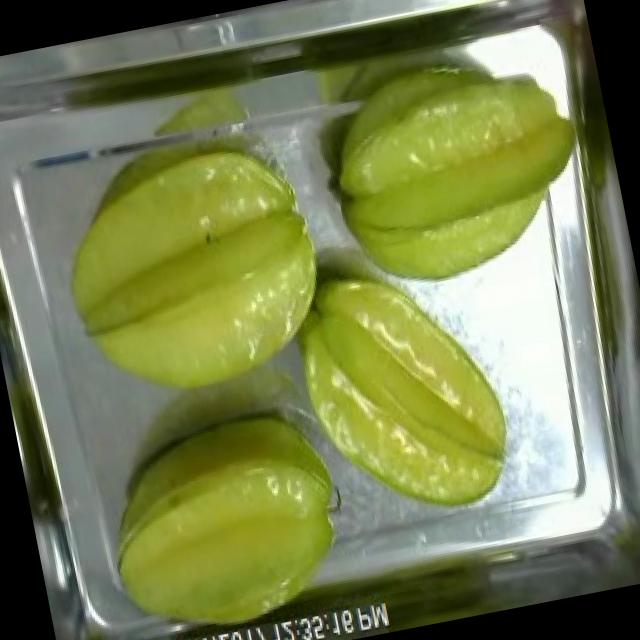fruit: (34, 119, 350, 422), (300, 25, 608, 310), (263, 234, 532, 540), (82, 391, 372, 640)
